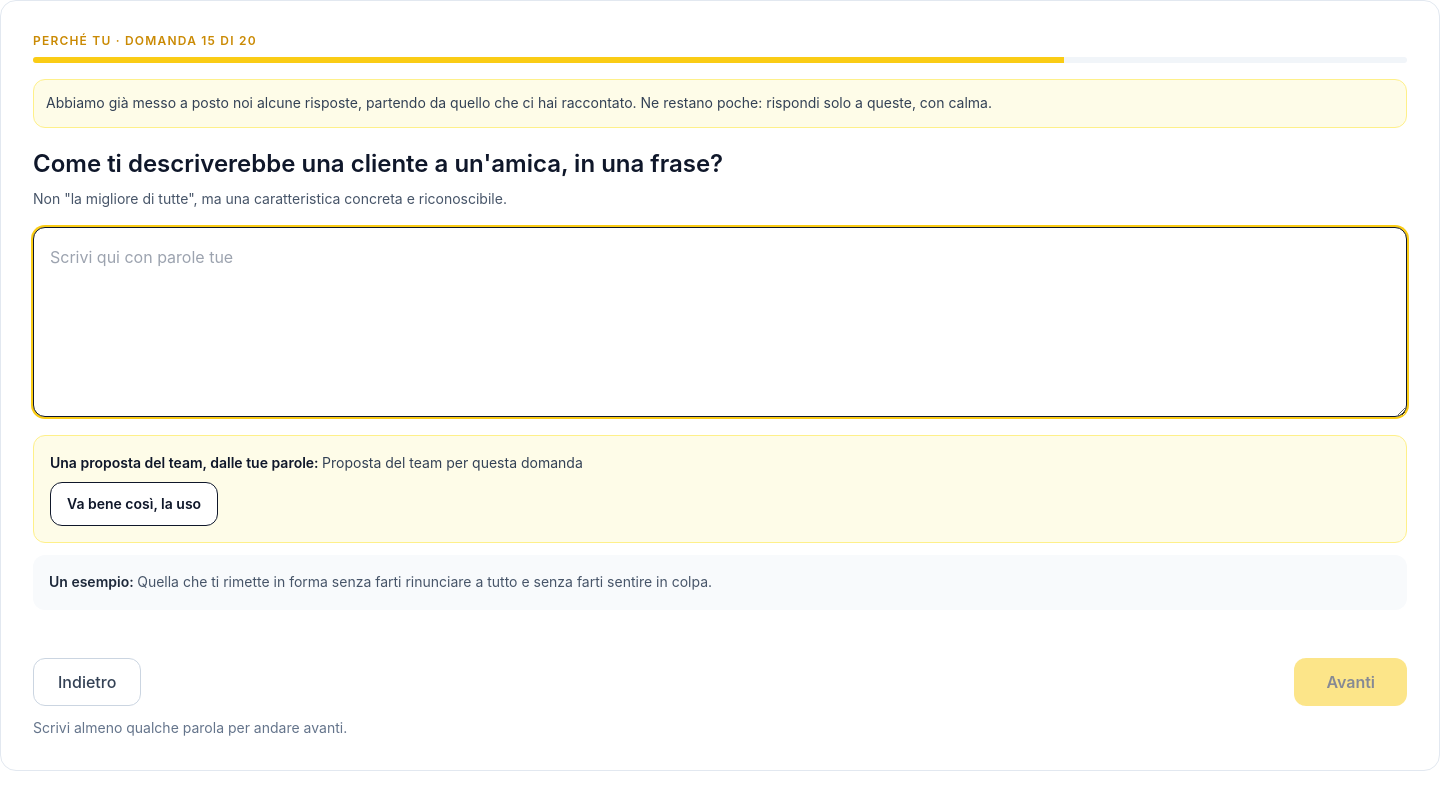
it: con integrazione richiesta dal team non mostra 'Grazie' ma riparte dalle domande mancanti, con la proposta da confermare
Expected: the heading "Come ti descriverebbe una cliente a un'amica, in una frase?" is shown, [33,149,723,178]
Expected: the text "Abbiamo già messo a posto noi alcune risposte" is shown, [46,94,992,111]
Click the button "Va bene così, la uso".
click(134, 504)  # box [50,482,218,526]
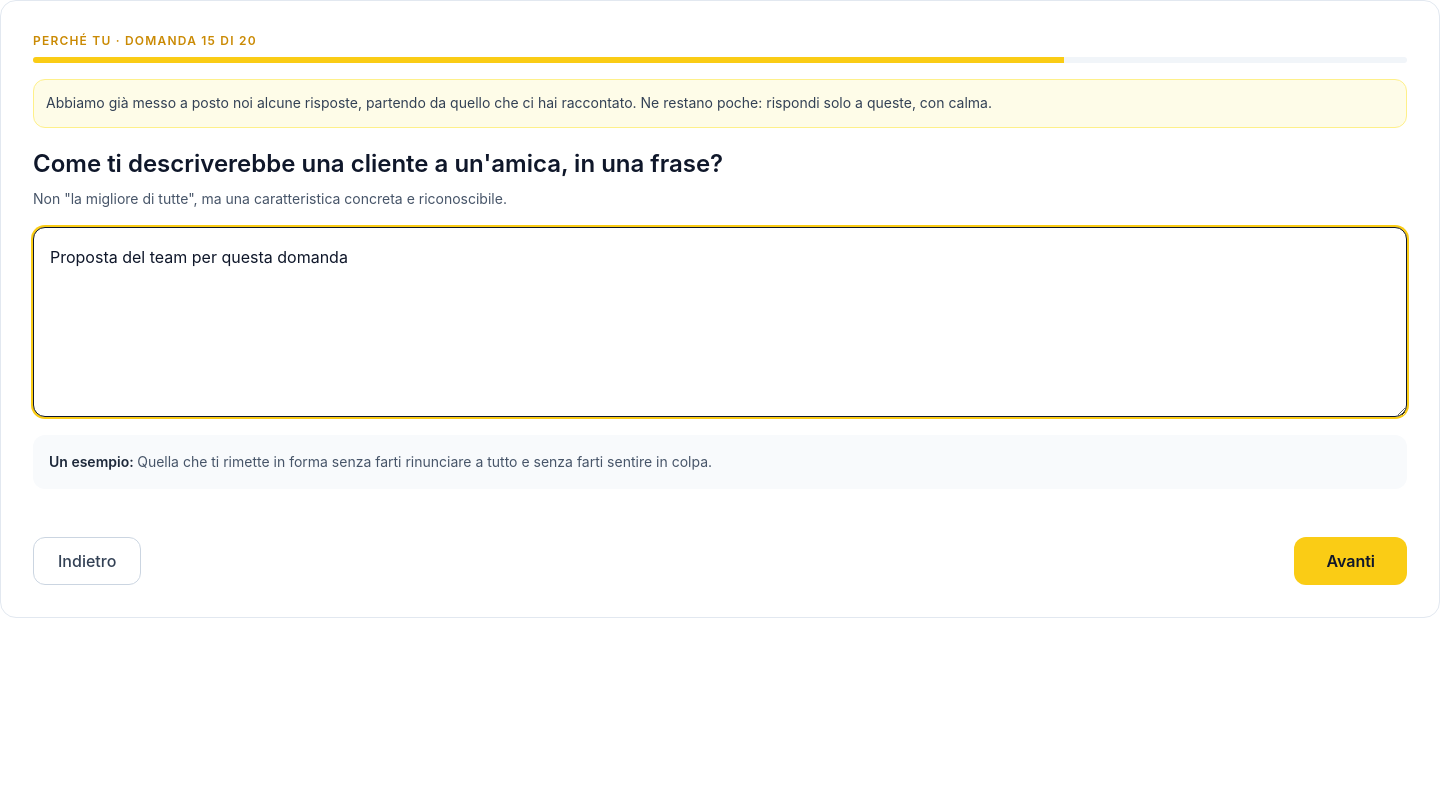
Expected: the text box holds "Proposta del team per questa domanda", [33,226,1407,416]
